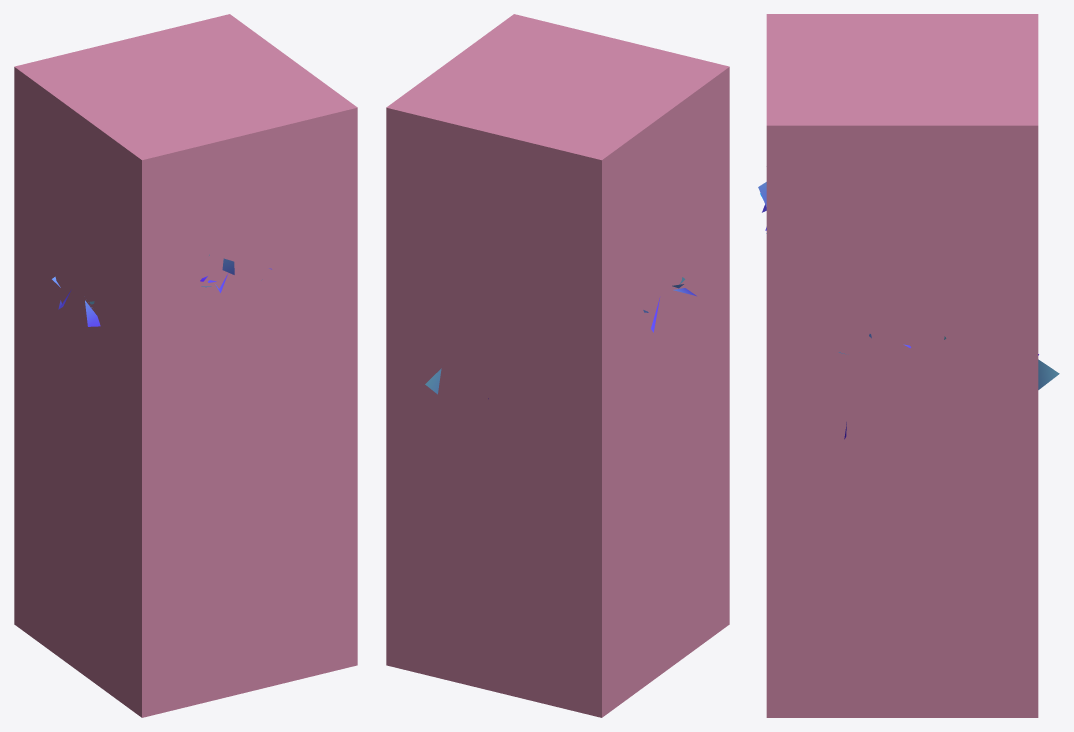
File: tree_aspen_large_a.dae
3 views of the same model, side by side, from view 1: azimuth 30°, elevation 25°; view 2: azimuth 150°, elevation 25°; view 3: azimuth 270°, elevation 25° (orthographic). The views are drawn at different scales.
Visible parts, largest first — view 1: Untitled; view 2: Untitled; view 3: Untitled.
Part boxes in pixels (x1,y1,x2,y2): Untitled: (14,14,357,717); Untitled: (386,14,729,717); Untitled: (766,14,1038,717).
Size of the model in its own units: 5.74 by 5.92 by 12.82.
